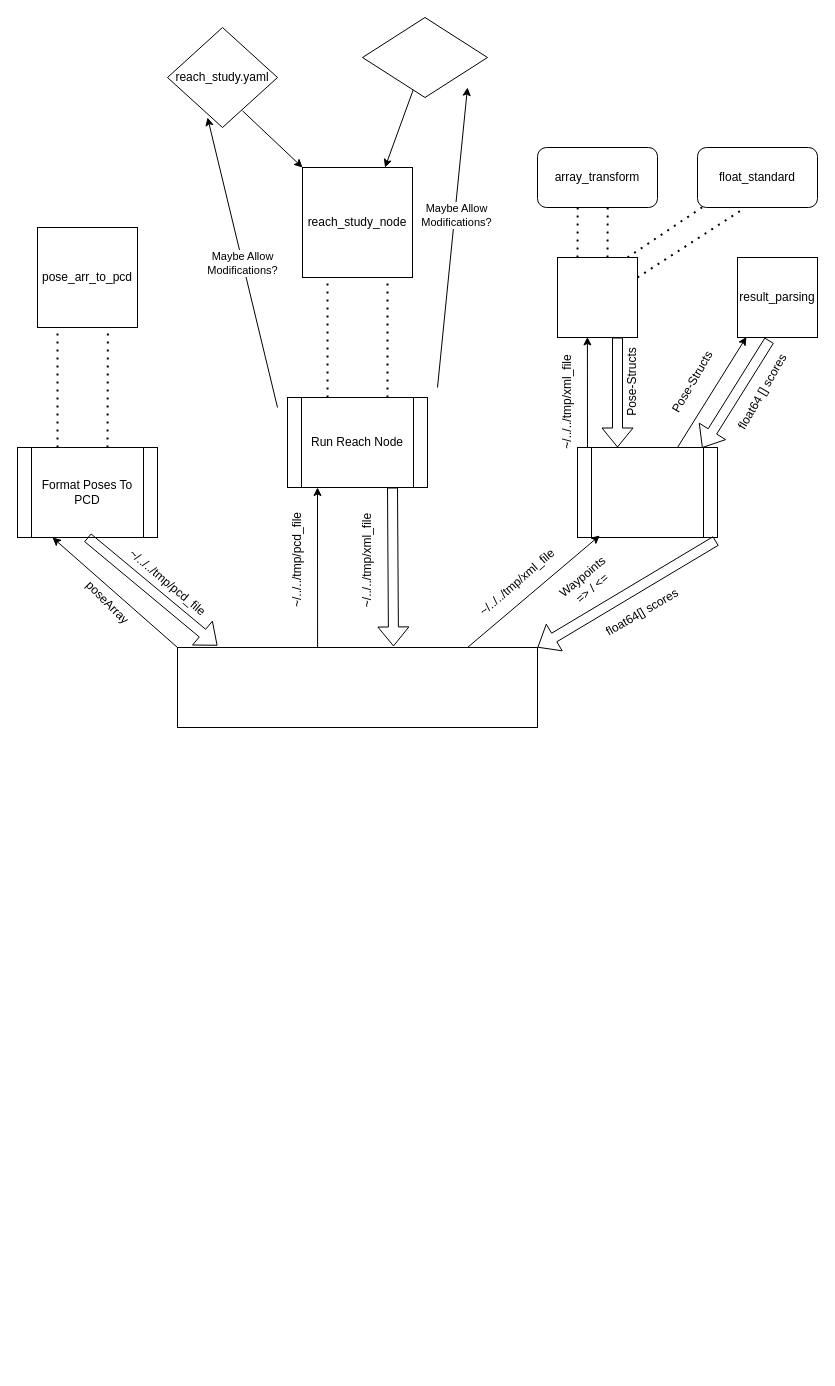
This 835x1386 diagram has some shape labels left out. The shapes that lost their labels are listed below. From the top down, each one's box as (x1, y1, x2, y2) in pixels, then its label:
(362, 16, 488, 98): launch.py
(556, 256, 638, 338): xml_parsing
(576, 446, 718, 538): Format Scores From XML
(176, 646, 538, 728): Node Hub Launch
